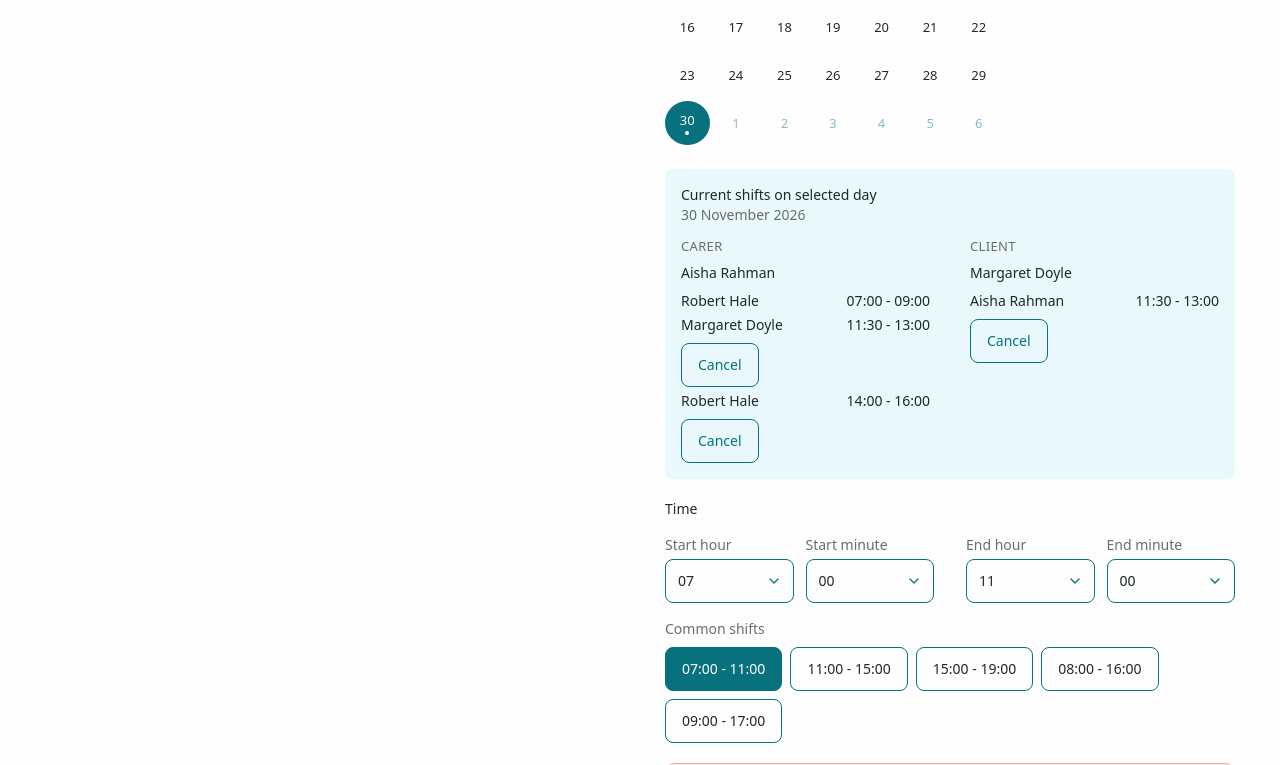
[ADM-09][AC-09] Cancel shift › [ADM-09][AC-09] the screen passes axe with the dialog open
(page scrolled)
Click the button with aria-label "Cancel shift, Aisha Rahman, Margaret Doyle, 11:30 - 13:00" at (720, 365), box [681,343,759,387]
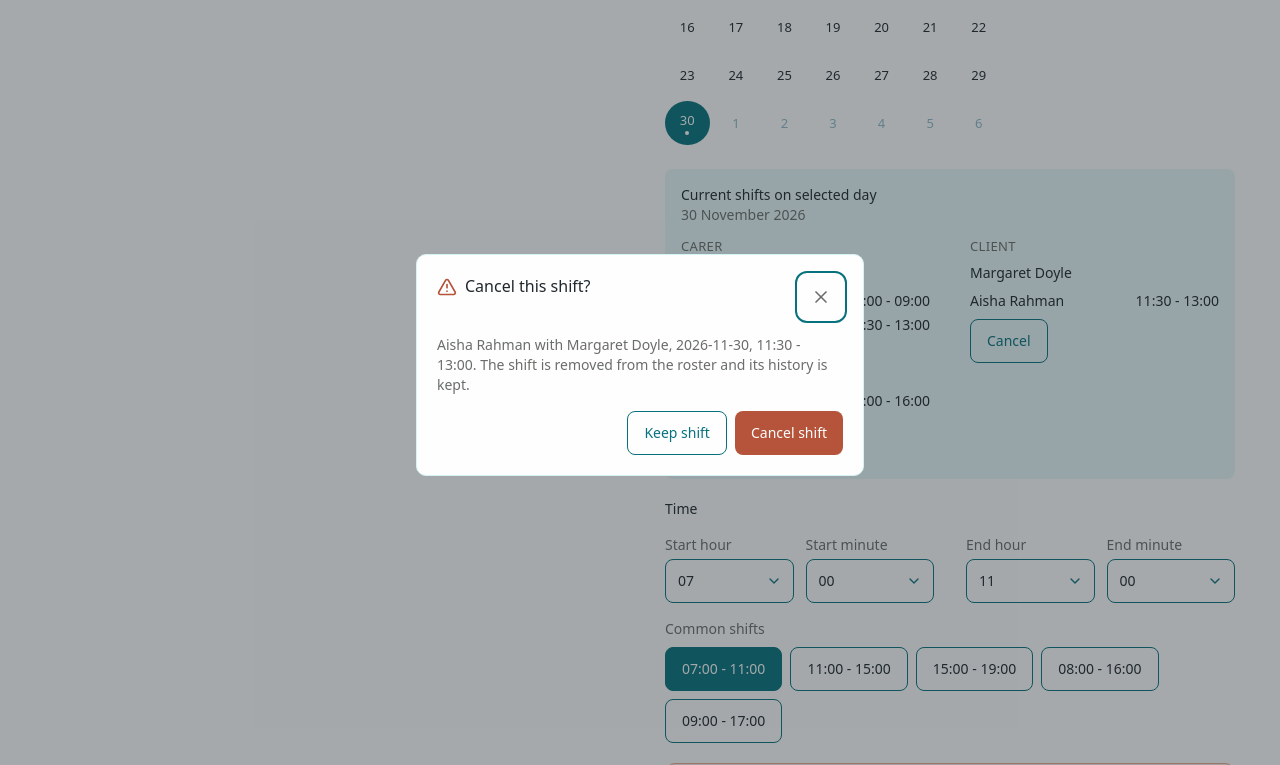
Expected: the dialog is shown, [416,254,864,476]
